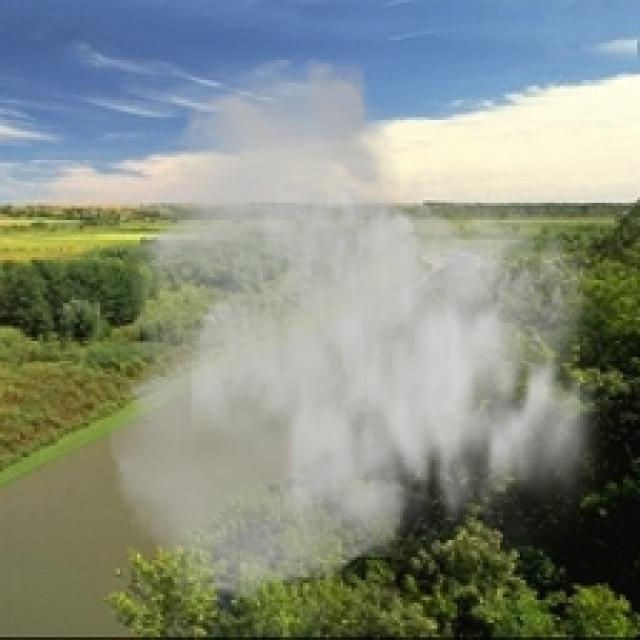Smoke: (105, 51, 626, 612)
